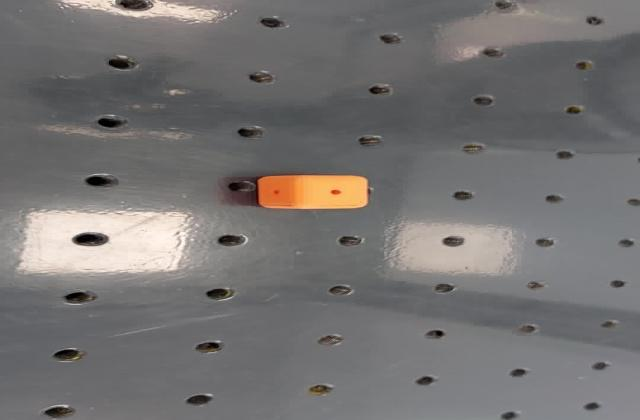cube: (250, 172, 374, 212)
